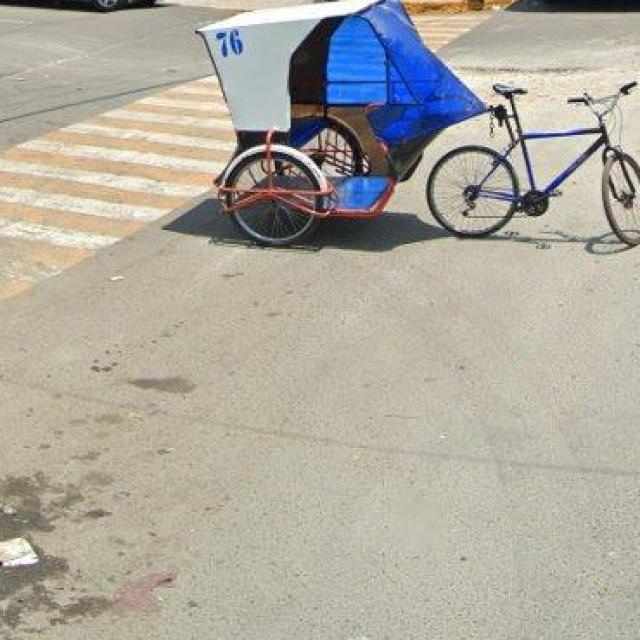bicycle: (428, 83, 640, 248)
